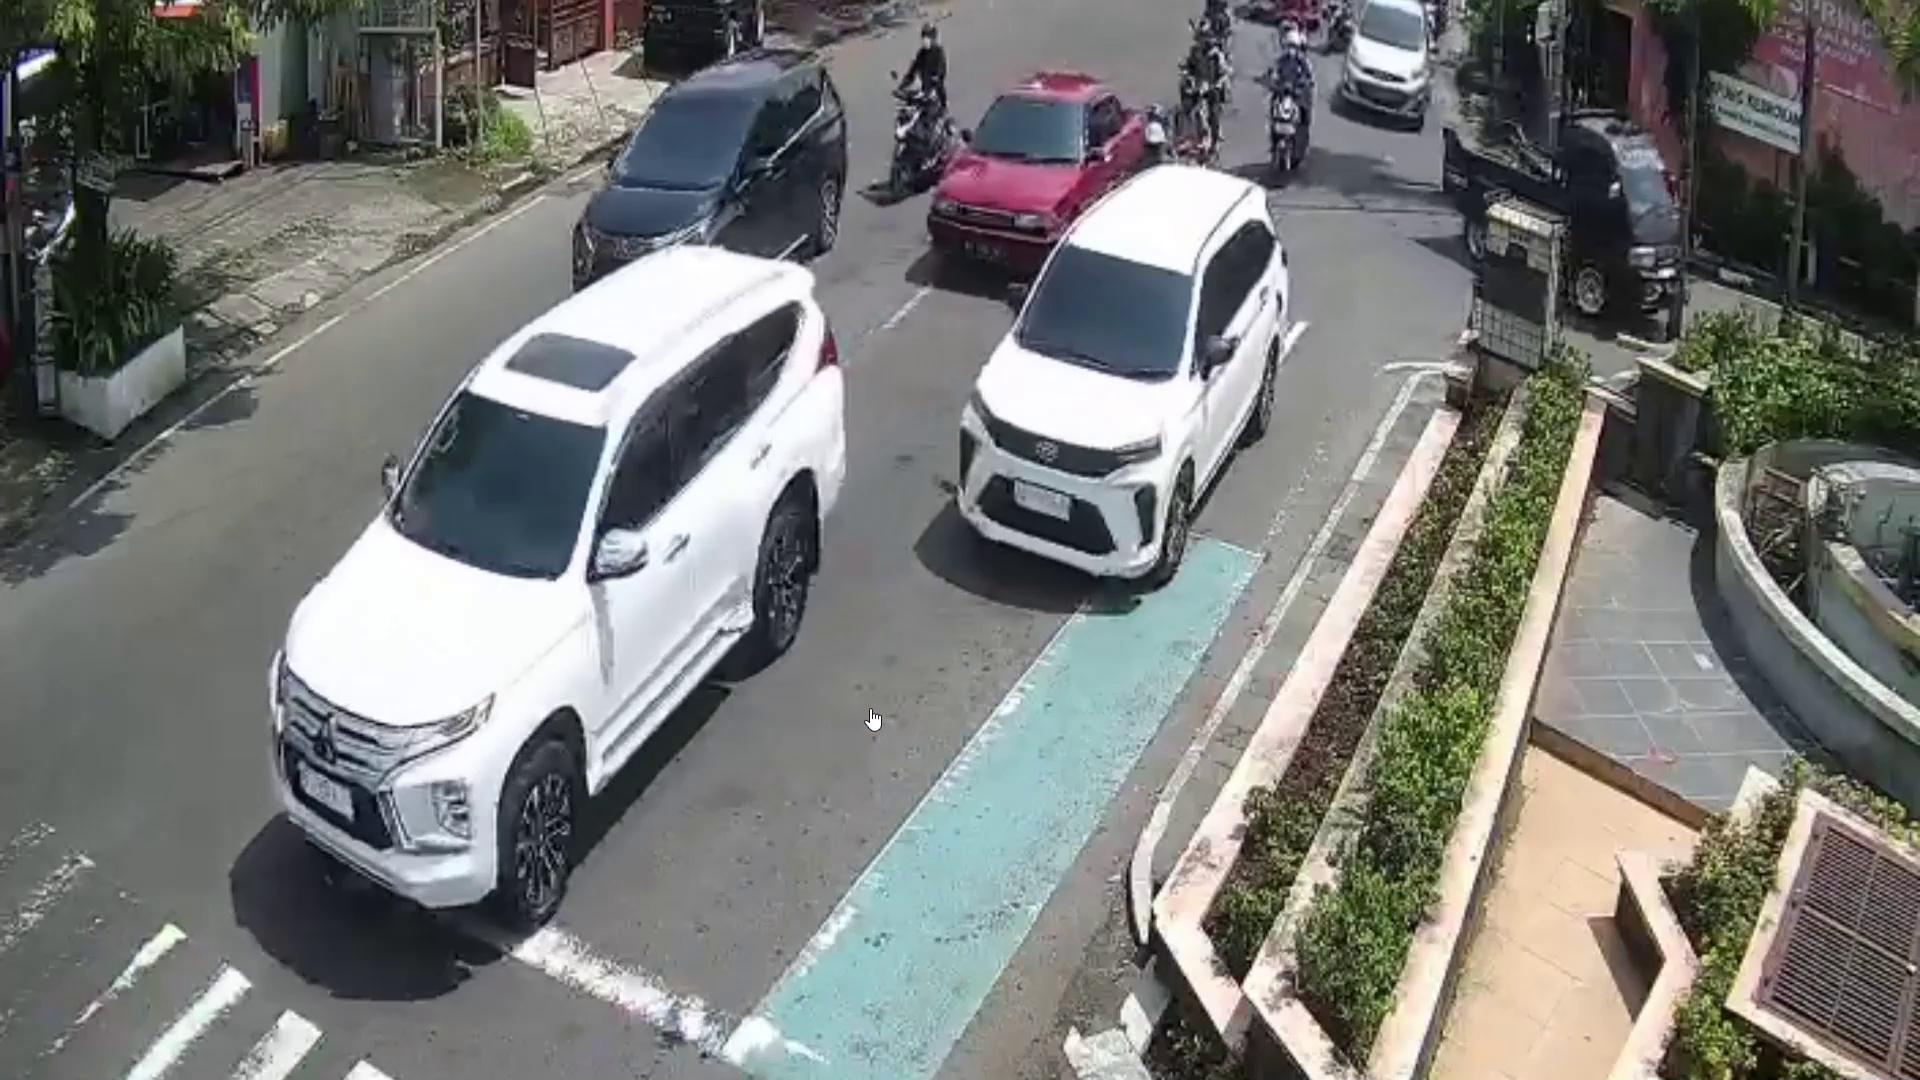car: (272, 244, 847, 907), (957, 162, 1288, 600), (571, 44, 847, 302), (1443, 108, 1688, 323), (928, 74, 1150, 286), (1341, 1, 1432, 132)
motorbike: (894, 78, 955, 195), (1267, 69, 1312, 171)
